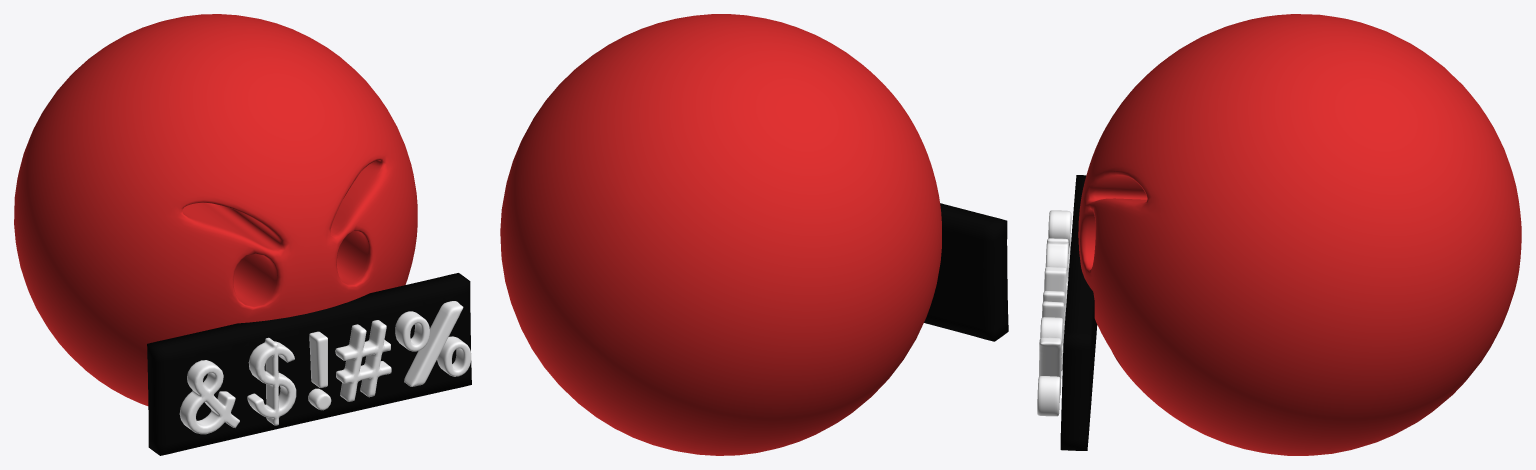
File: seriouslyangry.glb
3 views of the same model, side by side, from view 1: azimuth 30°, elevation 25°; view 2: azimuth 150°, elevation 25°; view 3: azimuth 270°, elevation 25° (orthographic). The views are drawn at different scales.
Parts seen in each view (by area): view 1: Group30555, Group44109, Serius3; view 2: Group30555, Group44109; view 3: Group30555, Group44109, Serius3.
Part boxes in pixels (left/top/right/bottom): Group30555: left=14, top=14, right=417, bottom=405; Group44109: left=147, top=273, right=471, bottom=455; Serius3: left=179, top=301, right=471, bottom=434; Group30555: left=500, top=14, right=941, bottom=455; Group44109: left=924, top=203, right=1008, bottom=341; Group30555: left=1078, top=14, right=1521, bottom=455; Group44109: left=1060, top=175, right=1097, bottom=450; Serius3: left=1037, top=210, right=1071, bottom=416.
Bounding box in the file's own units: 0.6084 × 0.6091 × 0.6676.
